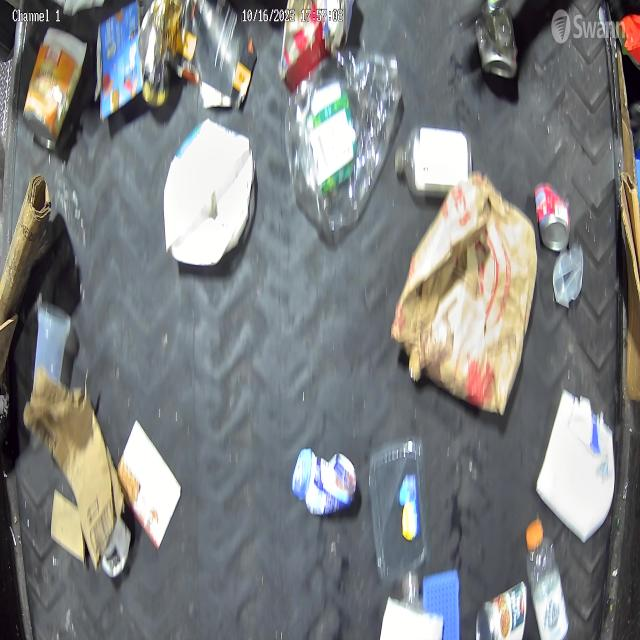can: (23, 28, 87, 151), (292, 447, 357, 519), (476, 0, 519, 79), (476, 579, 528, 640), (534, 182, 570, 252)
milk_jug: (162, 119, 254, 266), (537, 388, 616, 544)
